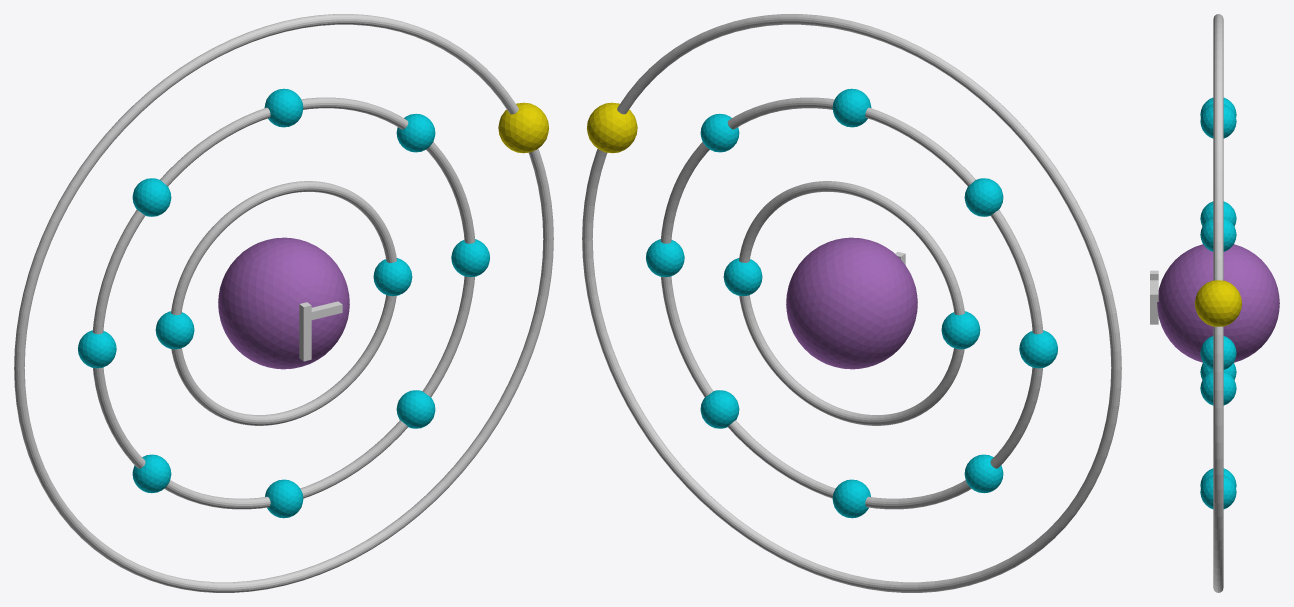
3 views of the same model, side by side, from view 1: azimuth 30°, elevation 25°; view 2: azimuth 150°, elevation 25°; view 3: azimuth 270°, elevation 25° (orthographic). The views are drawn at different scales.
Parts seen in each view (by area): view 1: Camada_3, Nucleo_Na, Camada_2, Camada_1, Eletron_Valencia, Eletron_C2_4, Eletron_C2_8, Eletron_C1_2, Eletron_C2_3, Eletron_C2_5, Eletron_C2_7, Eletron_C1_1 (+4 smaller); view 2: Camada_3, Nucleo_Na, Camada_2, Camada_1, Eletron_Valencia, Eletron_C2_4, Eletron_C2_8, Eletron_C1_2, Eletron_C2_3, Eletron_C2_5, Eletron_C2_7, Eletron_C1_1 (+3 smaller); view 3: Nucleo_Na, Camada_3, Eletron_Valencia, Eletron_C2_1, Eletron_C2_3, Eletron_C2_8, Eletron_C2_2, Eletron_C1_1, Eletron_C2_5, Marca_Na_1, Eletron_C2_6, Eletron_C2_4 (+2 smaller).
Part boxes in pixels (bbox=[...]): Camada_3: bbox=[14, 14, 553, 592]; Nucleo_Na: bbox=[218, 237, 349, 369]; Camada_2: bbox=[92, 97, 475, 509]; Camada_1: bbox=[171, 181, 396, 425]; Eletron_Valencia: bbox=[498, 102, 548, 153]; Eletron_C2_4: bbox=[132, 178, 171, 216]; Eletron_C2_8: bbox=[396, 390, 435, 428]; Eletron_C1_2: bbox=[155, 311, 194, 349]; Eletron_C2_3: bbox=[264, 88, 303, 127]; Eletron_C2_5: bbox=[78, 330, 116, 368]; Eletron_C2_7: bbox=[265, 479, 303, 518]; Eletron_C1_1: bbox=[373, 258, 412, 296]; Camada_3: bbox=[582, 14, 1121, 592]; Nucleo_Na: bbox=[786, 237, 917, 369]; Camada_2: bbox=[660, 97, 1043, 509]; Camada_1: bbox=[739, 181, 964, 425]; Eletron_Valencia: bbox=[587, 102, 637, 153]; Eletron_C2_4: bbox=[964, 178, 1003, 216]; Eletron_C2_8: bbox=[700, 390, 739, 428]; Eletron_C1_2: bbox=[941, 311, 980, 349]; Eletron_C2_3: bbox=[832, 88, 871, 127]; Eletron_C2_5: bbox=[1019, 330, 1057, 368]; Eletron_C2_7: bbox=[832, 479, 870, 518]; Eletron_C1_1: bbox=[723, 258, 762, 296]; Nucleo_Na: bbox=[1157, 244, 1279, 362]; Camada_3: bbox=[1213, 14, 1223, 592]; Eletron_Valencia: bbox=[1194, 280, 1241, 326]; Eletron_C2_1: bbox=[1200, 371, 1236, 405]; Eletron_C2_3: bbox=[1200, 104, 1236, 138]; Eletron_C2_8: bbox=[1200, 475, 1236, 509]; Eletron_C2_2: bbox=[1200, 218, 1236, 251]; Eletron_C1_1: bbox=[1200, 336, 1236, 369]; Eletron_C2_5: bbox=[1200, 201, 1236, 226]; Marca_Na_1: bbox=[1150, 270, 1158, 324]; Eletron_C2_6: bbox=[1200, 363, 1236, 379]; Eletron_C2_4: bbox=[1200, 97, 1236, 117].
Size of the model in its own units: 2.08 by 2.08 by 0.465.
